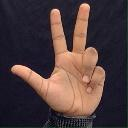hand: (10, 2, 105, 118)
